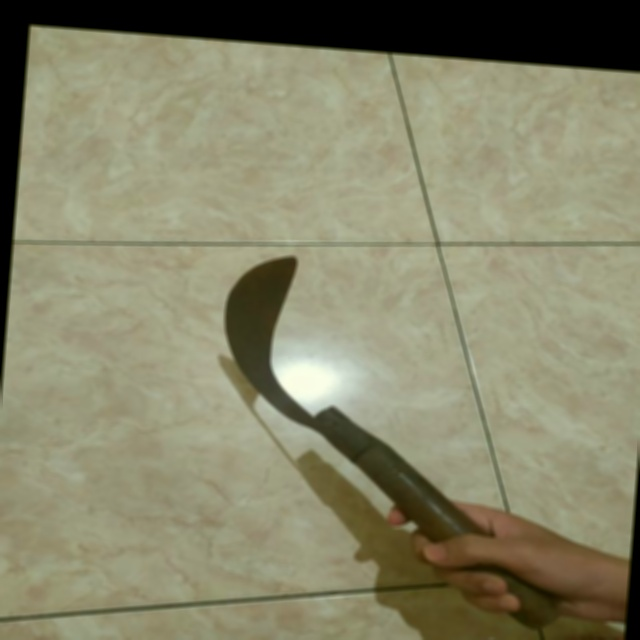Sharp-Object: (199, 239, 592, 634)
